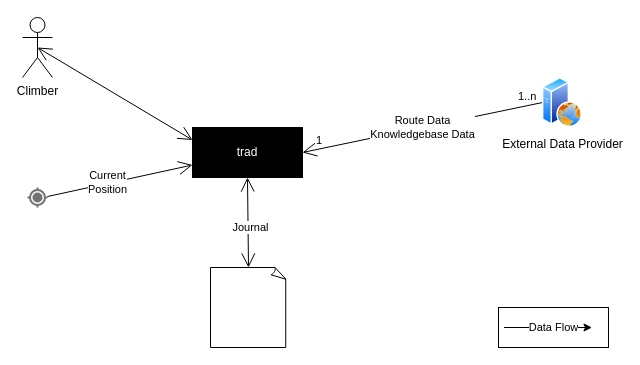
The diagram is 640 pixels wide and 365 high, and some of its shapes have lost their labels. The shapes that lost their labels are listed below. From the top down, each one's centre as x and y in pixels, then its label:
At (37,197): "GNSS".
At (248,307): "Exported File/Backup".
